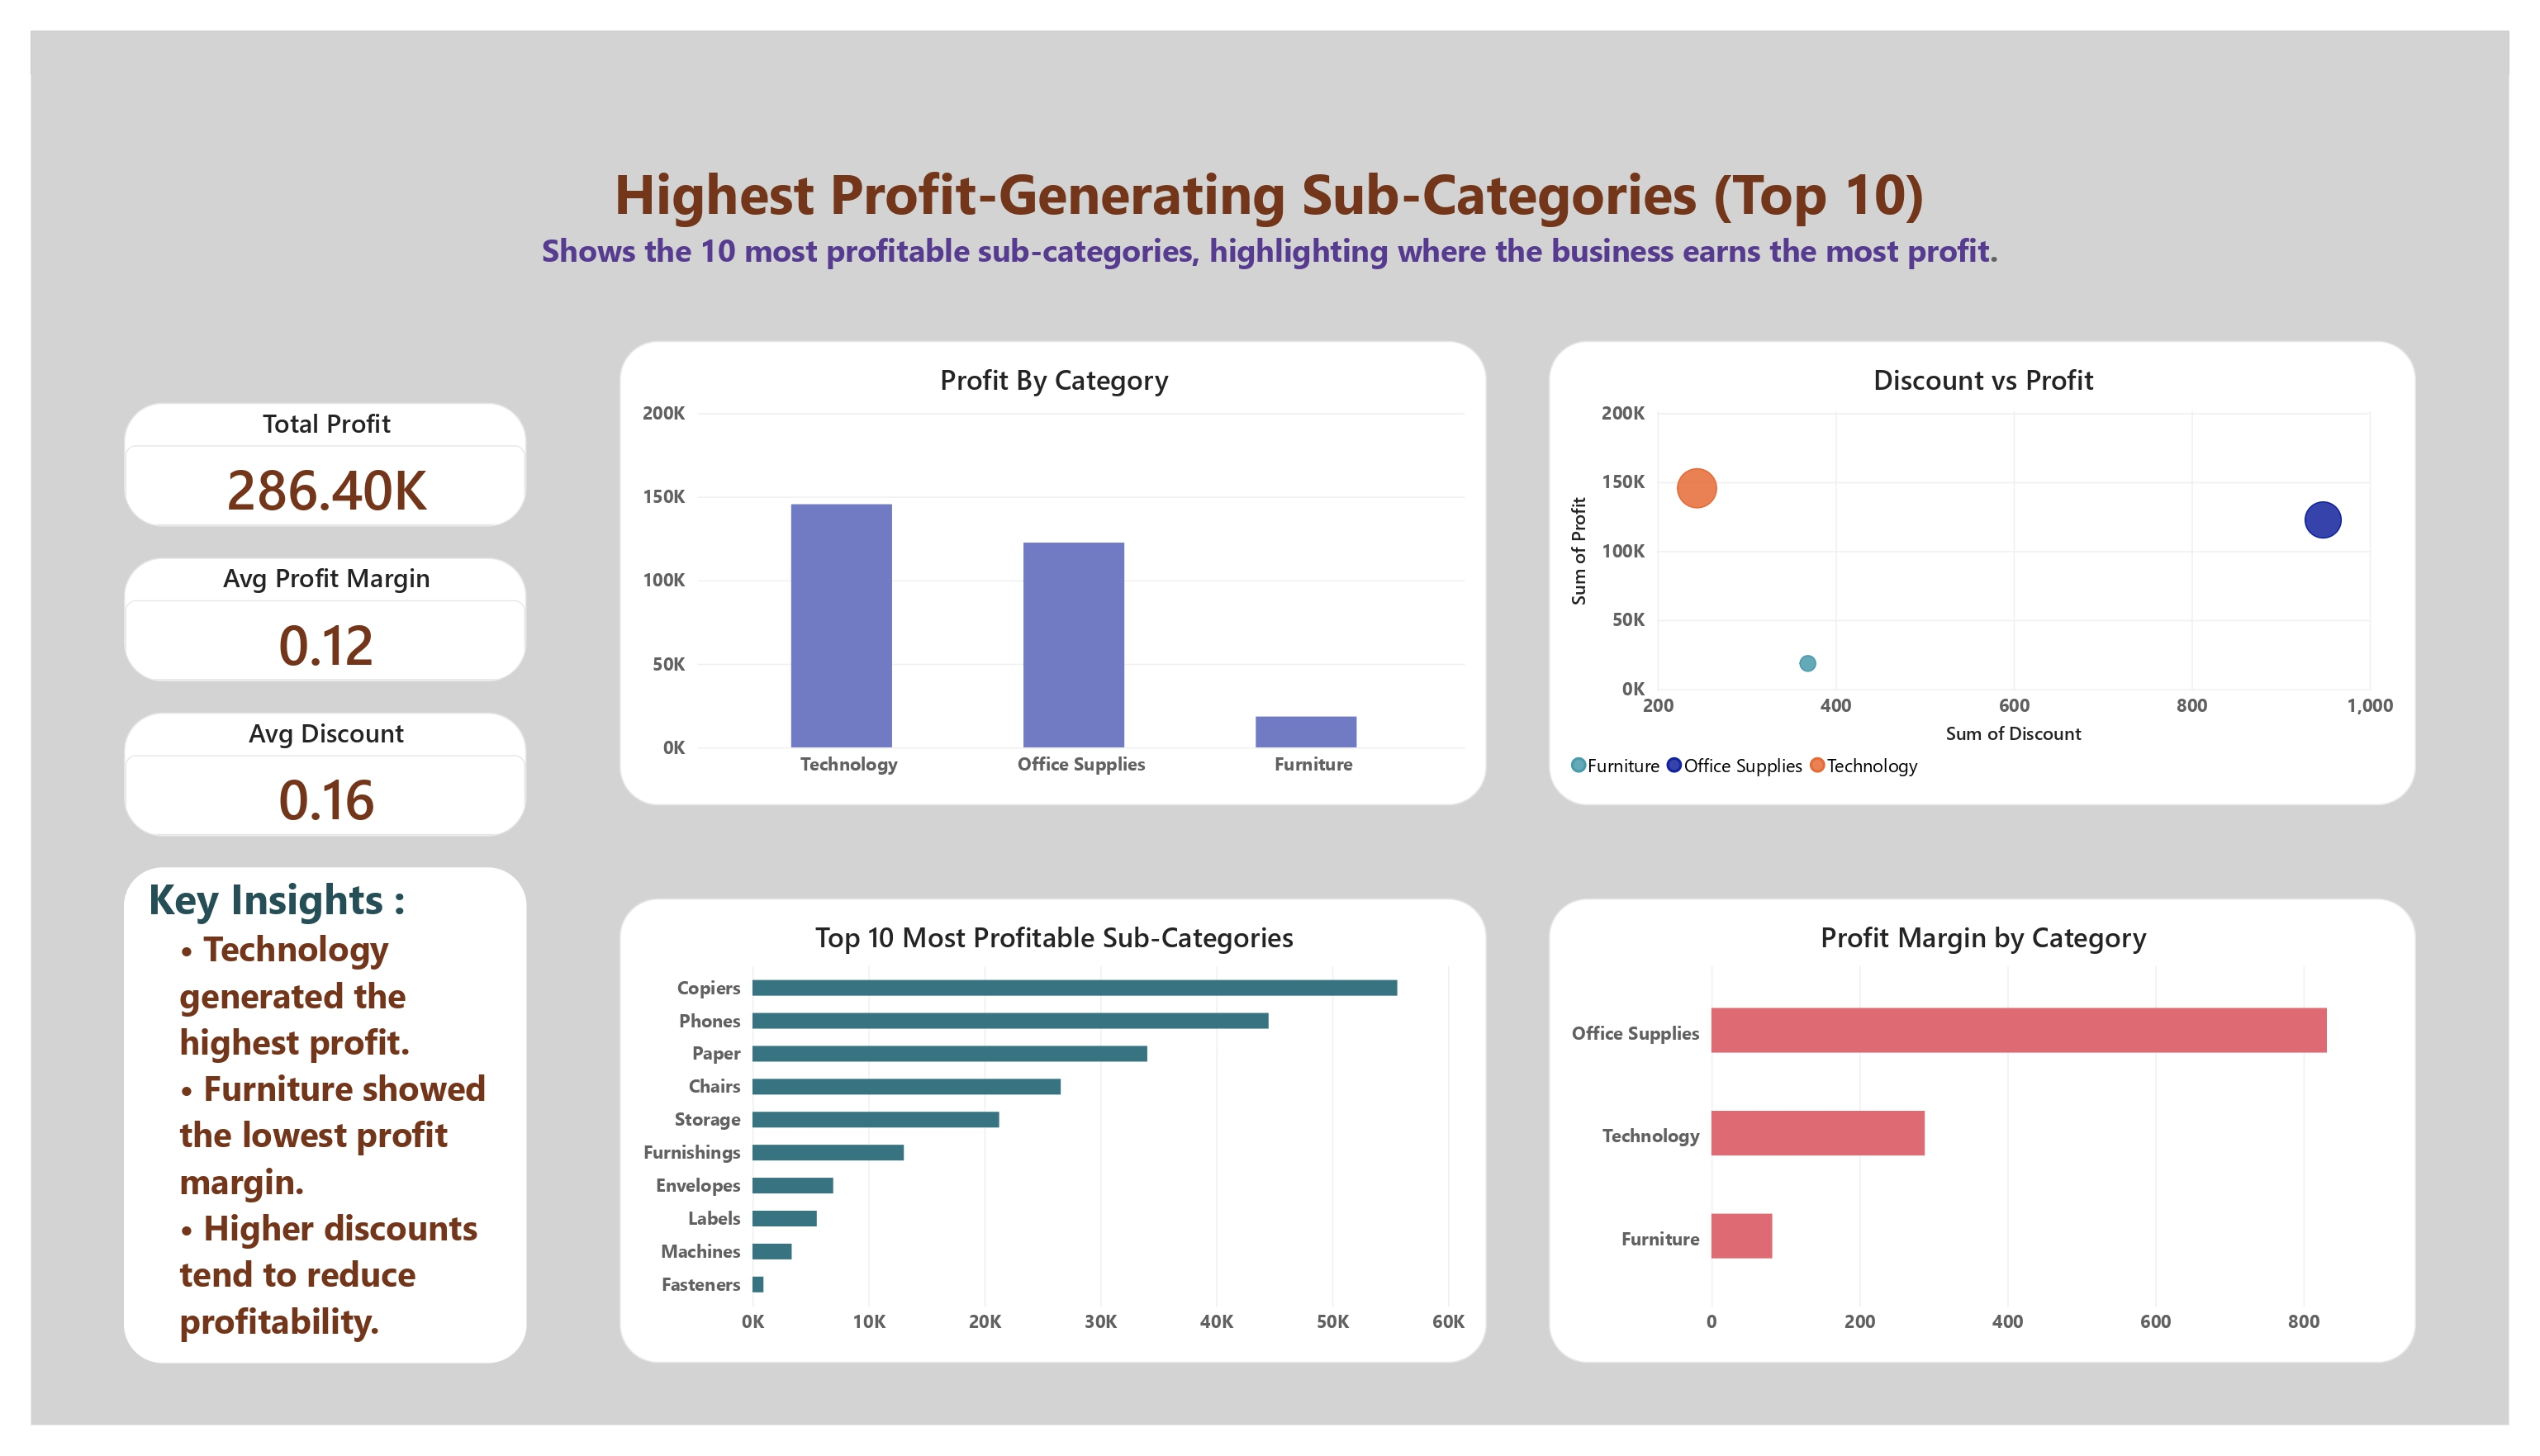

This screenshot's page, from the dashboard's own definition file:
{"tool":"powerbi","page":{"name":"Profitability Analysis","canvas":[1920,1080],"ordinal":1},"visuals":[{"type":"cardVisual","title":"Total Profit","fields":{"Data":["cleaned_data.Total Profit"]},"box":[72,288,312,96],"z":0},{"type":"cardVisual","title":"Avg Profit Margin","fields":{"Data":["cleaned_data.Avg Profit Margin"]},"box":[72,408,312,96],"z":1000},{"type":"cardVisual","title":"Avg Discount","fields":{"Data":["cleaned_data.Avg Discount"]},"box":[72,528,312,96],"z":2000},{"type":"columnChart","title":"Profit By Category","fields":{"Category":["cleaned_data.Category"],"Y":["Sum(cleaned_data.Profit)"]},"box":[456,240,672,360],"z":3000},{"type":"barChart","title":"Top 10 Most Profitable Sub-Categories","fields":{"Category":["cleaned_data.Sub-Category"],"Y":["Sum(cleaned_data.Profit)"]},"box":[456,672,672,360],"z":4000},{"type":"scatterChart","title":"Discount vs Profit","fields":{"Series":["cleaned_data.Category"],"Size":["Sum(cleaned_data.Profit)"],"X":["Sum(cleaned_data.Discount)"],"Y":["Sum(cleaned_data.Profit)"]},"box":[1176,240,672,360],"z":5000},{"type":"textbox","box":[72,648,312,384],"z":6000},{"type":"barChart","title":"Profit Margin by Category","fields":{"Category":["cleaned_data.Category"],"Y":["Sum(cleaned_data.Profit Margin)"]},"box":[1176,672,672,360],"z":7000},{"type":"textbox","box":[72,96,1776,96],"z":8000}]}

Visuals, with their boxes on the page's 1920x1080 design canvas (x1, y1, x2, y2). These are canvas units, not pixel positions in the 2540x1456 screenshot, which may show the page scaled, cropped or inside an application window:
"Total Profit" cardVisual: [72, 288, 384, 384]
"Avg Profit Margin" cardVisual: [72, 408, 384, 504]
"Avg Discount" cardVisual: [72, 528, 384, 624]
"Profit By Category" columnChart: [456, 240, 1128, 600]
"Top 10 Most Profitable Sub-Categories" barChart: [456, 672, 1128, 1032]
"Discount vs Profit" scatterChart: [1176, 240, 1848, 600]
textbox: [72, 648, 384, 1032]
"Profit Margin by Category" barChart: [1176, 672, 1848, 1032]
textbox: [72, 96, 1848, 192]
